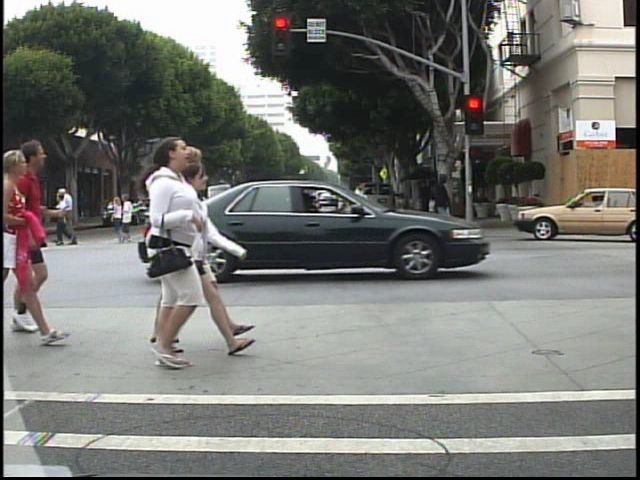person: (124, 138, 219, 379), (177, 147, 246, 352), (163, 158, 230, 367), (421, 168, 456, 241), (346, 177, 373, 241), (53, 191, 81, 247), (175, 186, 198, 249), (231, 182, 254, 240), (59, 185, 78, 247), (349, 187, 364, 223)
